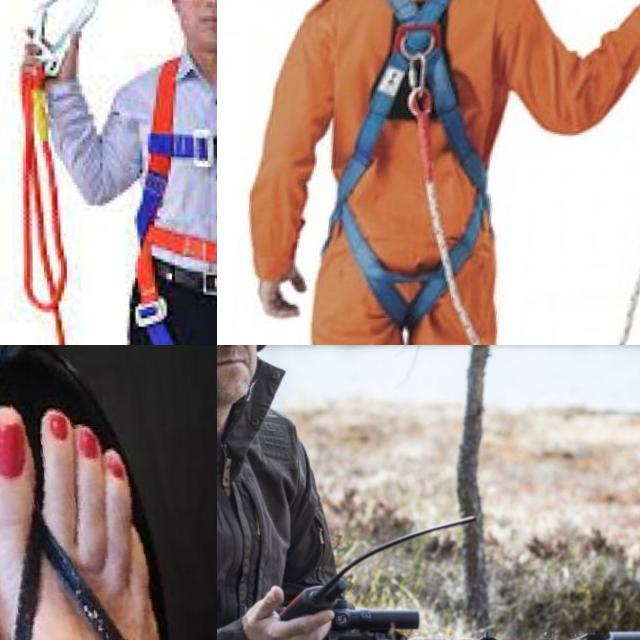Barefoots: (0, 374, 190, 640)
Harness: (324, 0, 489, 330), (137, 54, 217, 345)
